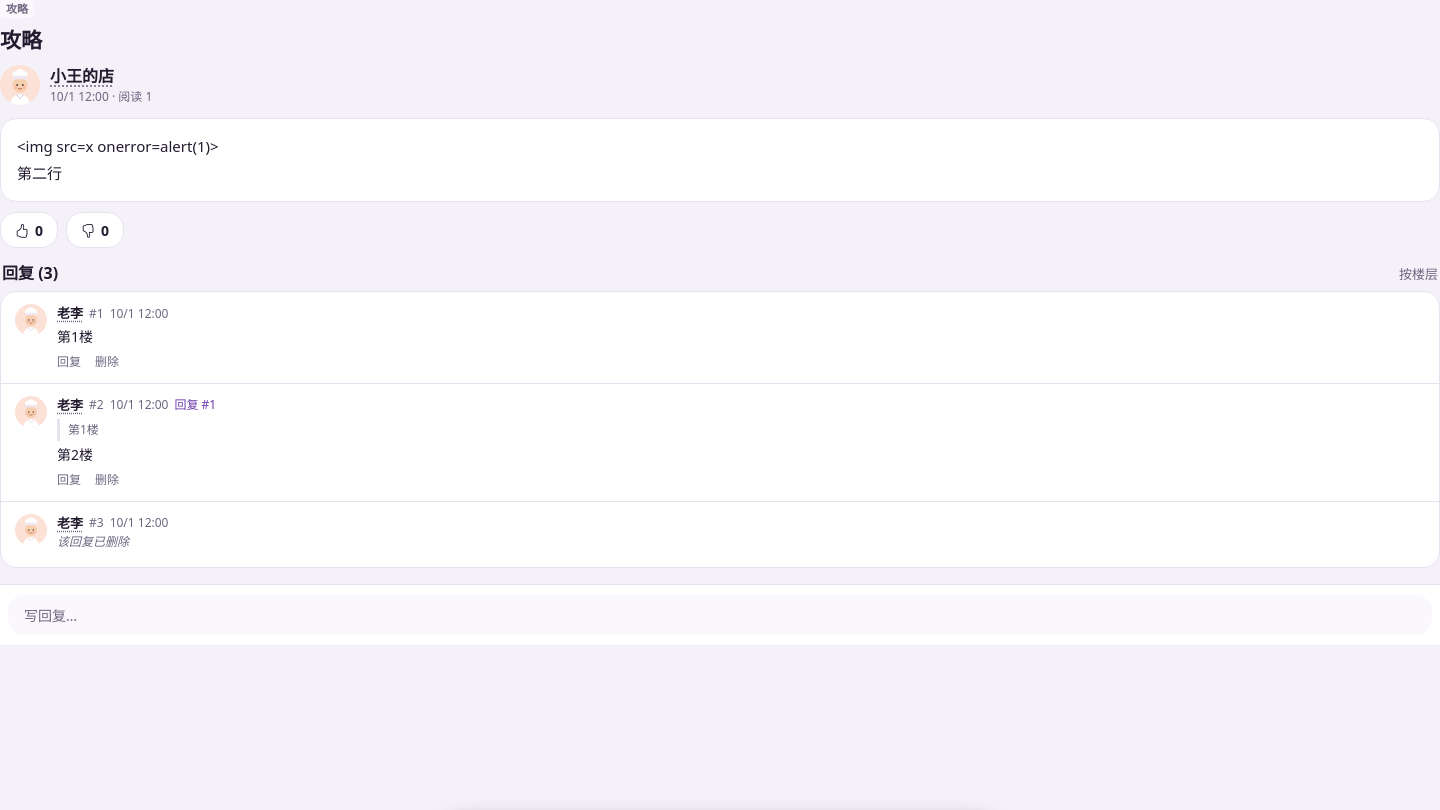
Test: ForumPostView › 点赞后更新计数和我的态度；没有管理权限时不显示置顶
Click the button with test id "post-up": (29, 230) x1=0 y1=212 x2=58 y2=248
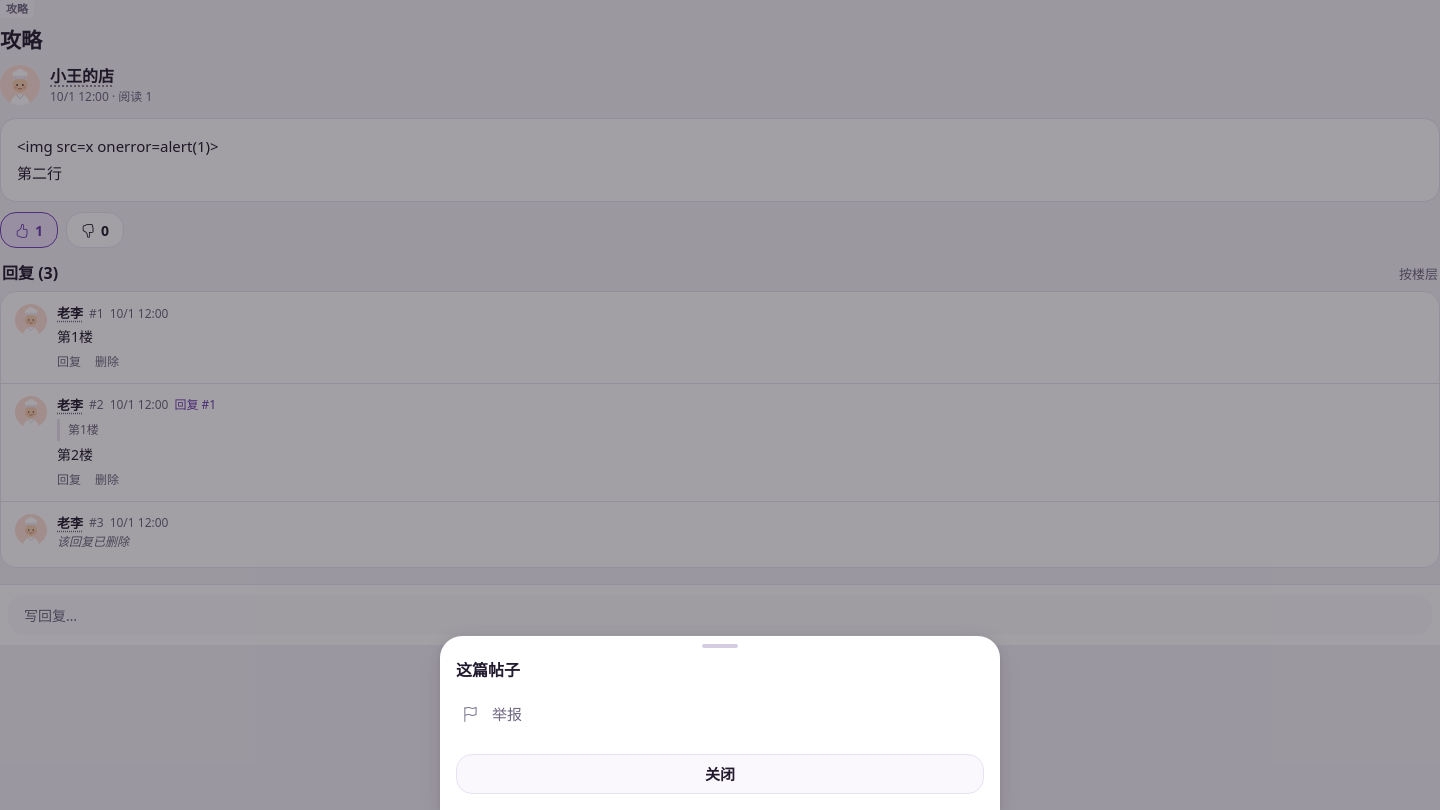
Expected: the button with test id "post-up" reads "1", x1=0 y1=212 x2=58 y2=248
